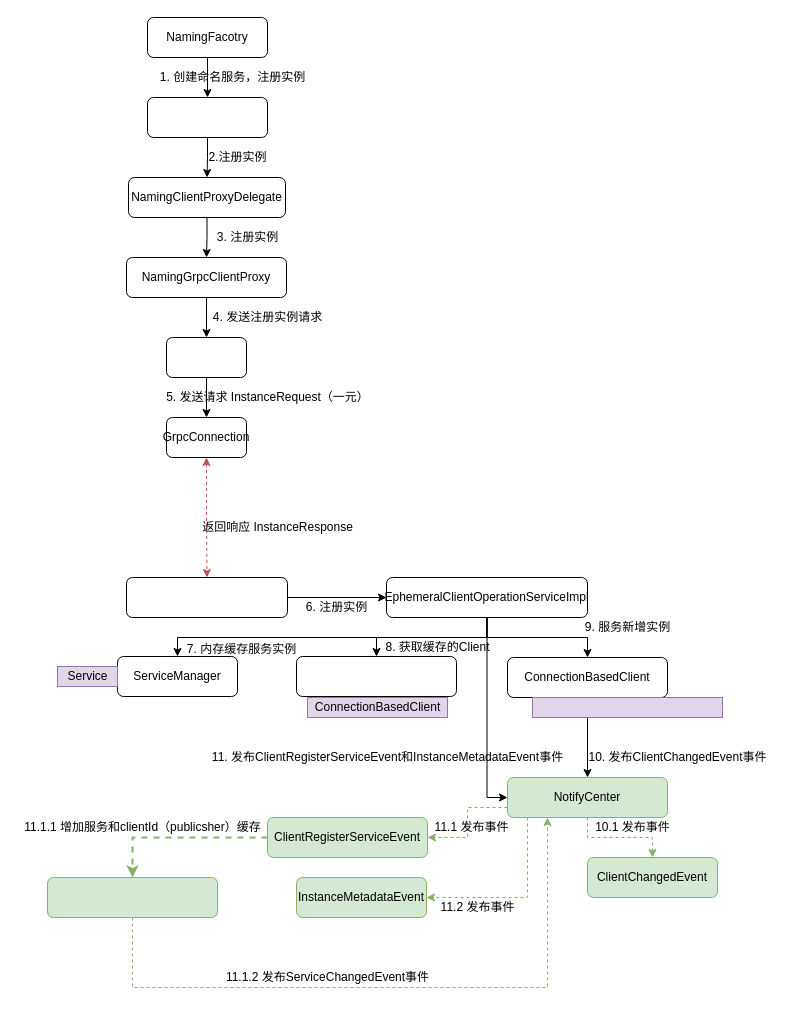
This 789x1013 diagram has some shape labels left out. Here are the shapes that lost their labels. From the top down, the centre of each, then its label:
(x=207, y=117): NacosNamingService
(x=206, y=357): GrpcSdkClient
(x=207, y=597): InstanceRequestHandler
(x=376, y=676): ConnectionBasedClientManager
(x=627, y=707): InstancePublishInfo（Instance）
(x=132, y=897): ClientServiceIndexesManager (Subscriber)
